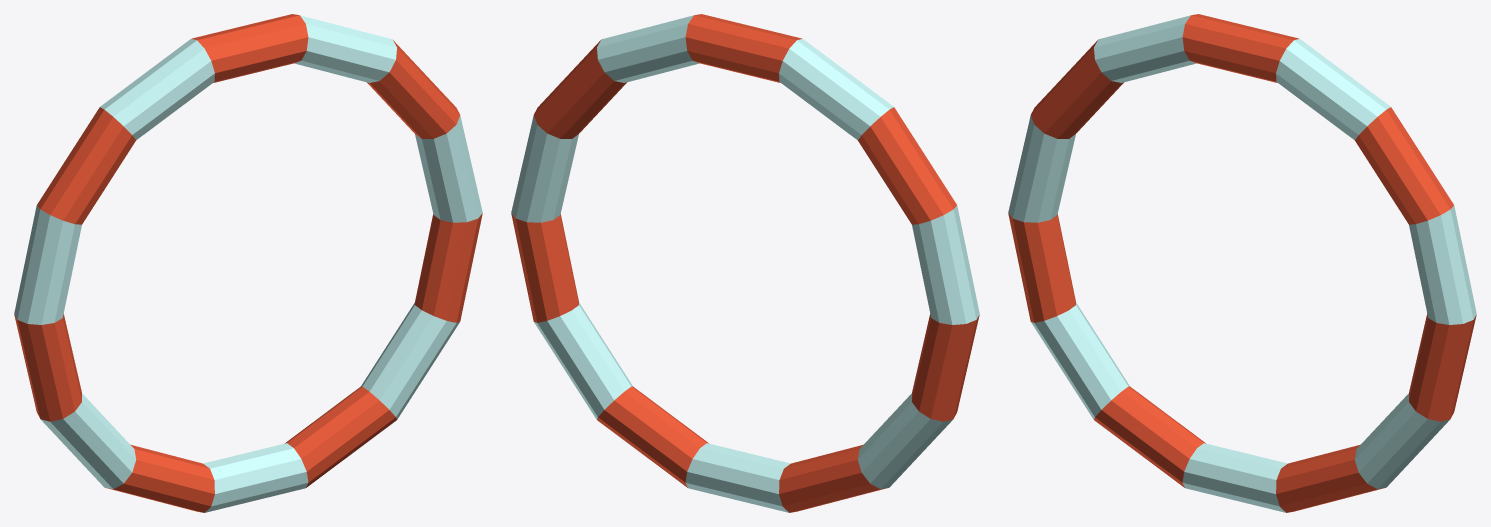
The model's file is Çember5.fbx.
3 views of the same model, side by side, from view 1: azimuth 30°, elevation 25°; view 2: azimuth 150°, elevation 25°; view 3: azimuth 330°, elevation 25° (orthographic).
Visible parts, largest first — view 1: Torus.001; view 2: Torus.001; view 3: Torus.001.
Part boxes in pixels (bbox=[...]): Torus.001: bbox=[14, 14, 482, 512]; Torus.001: bbox=[511, 14, 979, 512]; Torus.001: bbox=[1008, 14, 1476, 512].
Bounding box in the file's own units: 448 × 437 × 41.57.
